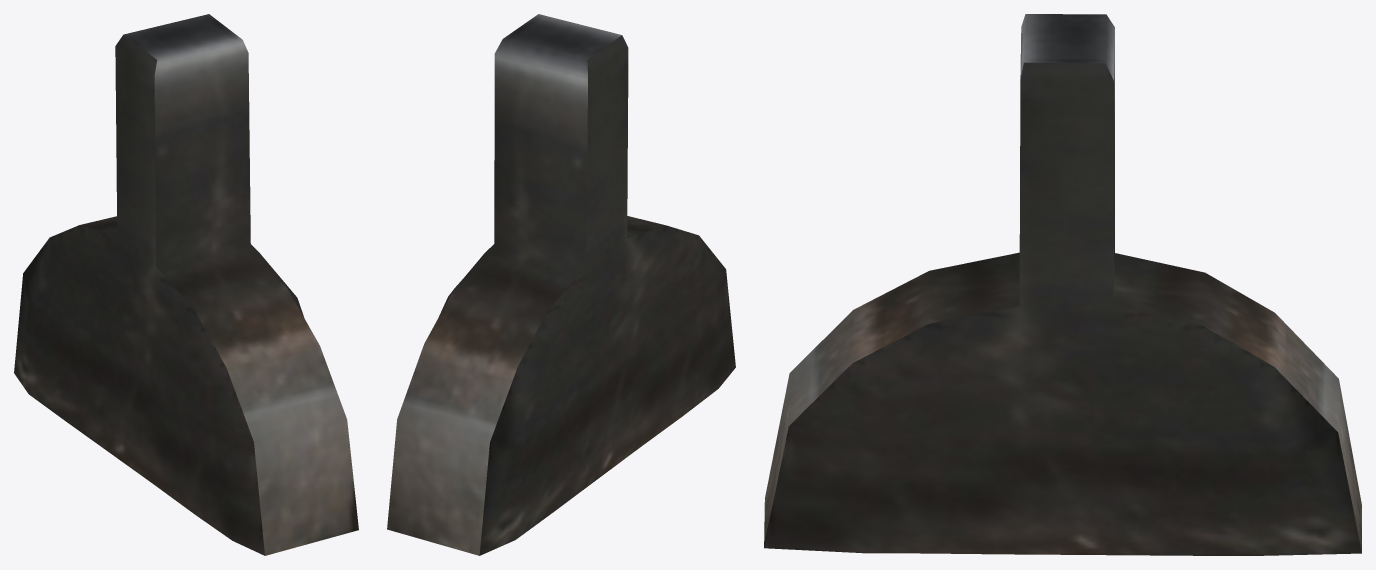
Rendered from Unity2Skfb.gltf.
The picture shows the model from 3 angles, left to right: view 1: azimuth 30°, elevation 25°; view 2: azimuth 150°, elevation 25°; view 3: azimuth 270°, elevation 25°; orthographic projection. The views are drawn at different scales.
Parts seen in each view (by area): view 1: node_A10_-2070; view 2: node_A10_-2070; view 3: node_A10_-2070.
Boxes of the visible parts, x1,y1,x2,y2 form: node_A10_-2070: [14, 14, 358, 555]; node_A10_-2070: [387, 14, 735, 555]; node_A10_-2070: [764, 14, 1361, 555].
Bounding box in the file's own units: 0.0178 × 0.0636 × 0.0702.
1 material, 1 textured.
